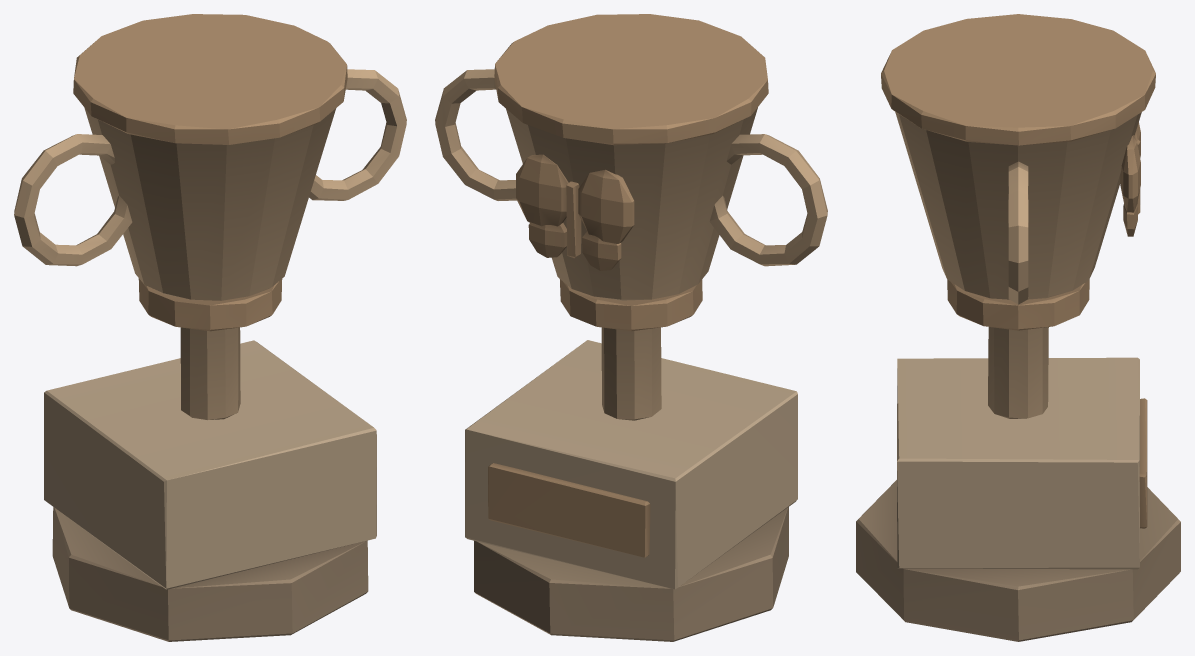
Rendered from event_trophy_bug_bronze_low.glb.
The picture shows the model from 3 angles, left to right: view 1: azimuth 30°, elevation 25°; view 2: azimuth 150°, elevation 25°; view 3: azimuth 270°, elevation 25°; orthographic projection.
Bounding box in the file's own units: 0.4423 × 0.545 × 0.3186.
